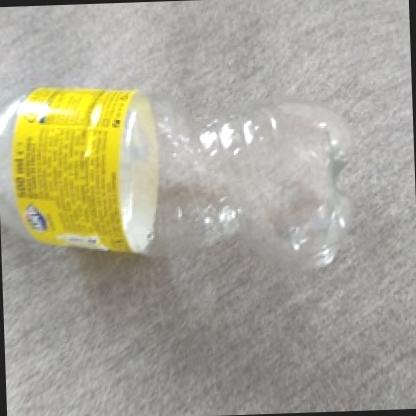plastic_bottles: (0, 79, 361, 270)
